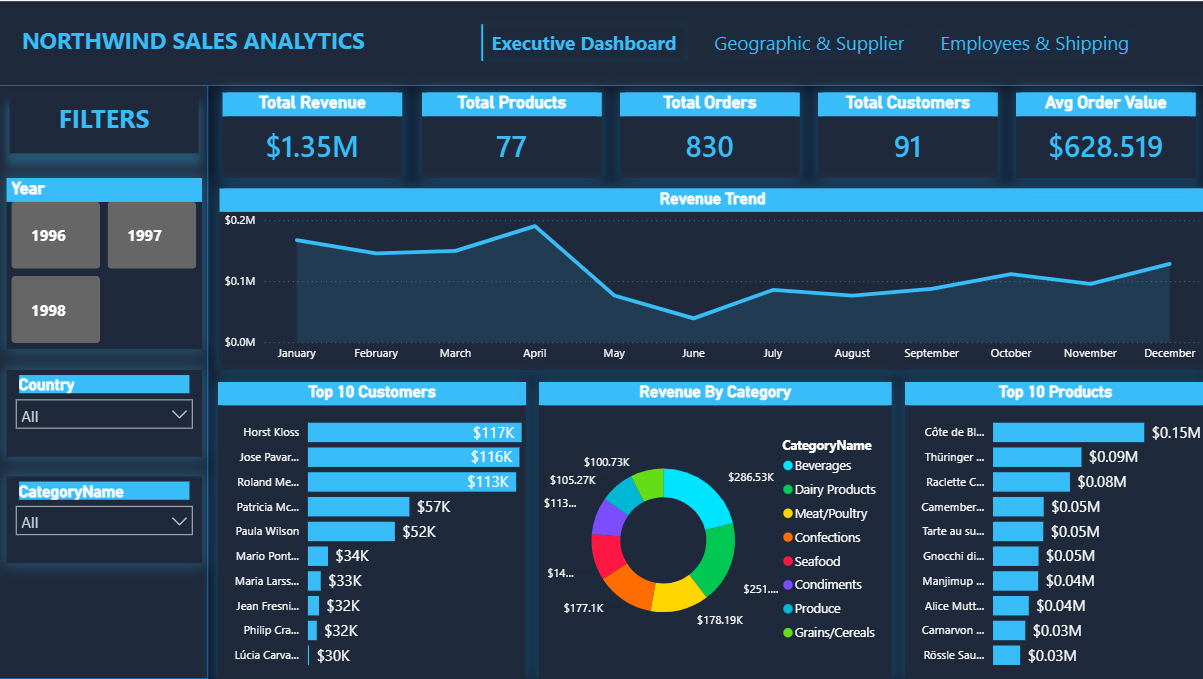

The page's visual inventory and layout, read from the dashboard file:
{"tool":"powerbi","page":{"name":"Executive Dashboard ","canvas":[1280,720],"ordinal":0},"visuals":[{"type":"shape","box":[0,0,1280,90],"z":0},{"type":"cardVisual","title":"Total Revenue","fields":{"Data":["Sum(vw_TotalRevenue.Total_Revenue)"]},"box":[237,97,190.9,90.7],"z":1000},{"type":"cardVisual","title":"Total Products","fields":{"Data":["Sum(vw_TotalProducts.Total_Products)"]},"box":[448.6,97,190.9,90.7],"z":2000},{"type":"cardVisual","title":"Total Orders","fields":{"Data":["Sum(vw_TotalOrders.Total_Orders)"]},"box":[658.5,97,190.9,90.7],"z":3000},{"type":"cardVisual","title":"Total Customers","fields":{"Data":["Sum(vw_TotalCustomers.Total_Customers)"]},"box":[868.5,97,190.9,90.7],"z":4000},{"type":"shape","box":[0,89.1,221.8,629.9],"z":5000},{"type":"lineChart","title":"Revenue Trend","fields":{"Y":["Sum(OrderDetails.Total Sales)"],"Category":["Orders.OrderDate.Variation.Date Hierarchy.Month","Orders.OrderDate.Variation.Date Hierarchy.Year"]},"box":[233.2,199.2,1046,192.7],"z":6000},{"type":"barChart","title":"Top 10 Customers","fields":{"Category":["Customers.ContactName"],"Y":["Sum(OrderDetails.Total Sales)"]},"box":[232.4,404.4,326.9,315.6],"z":7000},{"type":"barChart","title":"Top 10 Products","fields":{"Category":["Products.ProductName"],"Y":["Sum(OrderDetails.Total Sales)"]},"box":[960,404.4,319.4,315.6],"z":8000},{"type":"textbox","box":[19.4,19.4,385.4,51.8],"z":9000},{"type":"donutChart","title":"Revenue By Category","fields":{"Category":["Categories.CategoryName"],"Y":["Sum(OrderDetails.Total Sales)"]},"box":[573.2,404.8,374,315.7],"z":10000},{"type":"textbox","box":[11.3,100.4,200.8,61.5],"z":11000},{"type":"slicer","fields":{"Values":["Suppliers.Country"]},"box":[8.1,391.9,207.3,92.3],"z":12000},{"type":"advancedSlicerVisual","fields":{"Values":["Orders.OrderDate.Variation.Date Hierarchy.Year"]},"box":[8.1,187.8,207.3,181.4],"z":13000},{"type":"slicer","fields":{"Values":["Categories.CategoryName"]},"box":[8.1,503.6,207.3,92.3],"z":14000},{"type":"pageNavigator","box":[505.2,19.4,709.2,50.2],"z":15000},{"type":"cardVisual","title":"Avg Order Value","fields":{"Data":["Sum(vw_AvgOrderValue.Avg_OrderValue)"]},"box":[1078.4,97,190.9,90.7],"z":16000}]}

Visuals, with their boxes in screenshot pixels (x1, y1, x2, y2), scaled from the page's 1280x720 canvas onto the 1203x679 screenshot:
shape: <box>0,0,1202,85</box>
"Total Revenue" cardVisual: <box>223,91,402,177</box>
"Total Products" cardVisual: <box>422,91,601,177</box>
"Total Orders" cardVisual: <box>619,91,798,177</box>
"Total Customers" cardVisual: <box>816,91,996,177</box>
shape: <box>0,84,208,678</box>
"Revenue Trend" lineChart: <box>219,188,1202,370</box>
"Top 10 Customers" barChart: <box>218,381,526,678</box>
"Top 10 Products" barChart: <box>902,381,1202,678</box>
textbox: <box>18,18,380,67</box>
"Revenue By Category" donutChart: <box>539,382,890,678</box>
textbox: <box>11,95,199,153</box>
slicer - Suppliers.Country: <box>8,370,202,457</box>
advancedSlicerVisual - Orders.OrderDate.Variation.Date Hierarchy.Year: <box>8,177,202,348</box>
slicer - Categories.CategoryName: <box>8,475,202,562</box>
pageNavigator: <box>475,18,1141,66</box>
"Avg Order Value" cardVisual: <box>1014,91,1193,177</box>
